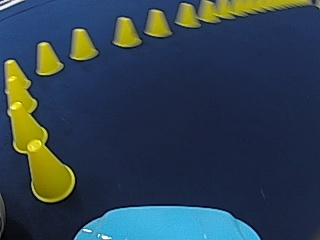cone: (23, 140, 74, 201), (1, 58, 35, 113), (8, 103, 48, 149), (34, 40, 63, 75), (68, 27, 98, 60), (111, 16, 141, 47), (143, 8, 170, 37), (174, 2, 199, 27), (198, 0, 218, 22), (216, 0, 231, 18)
